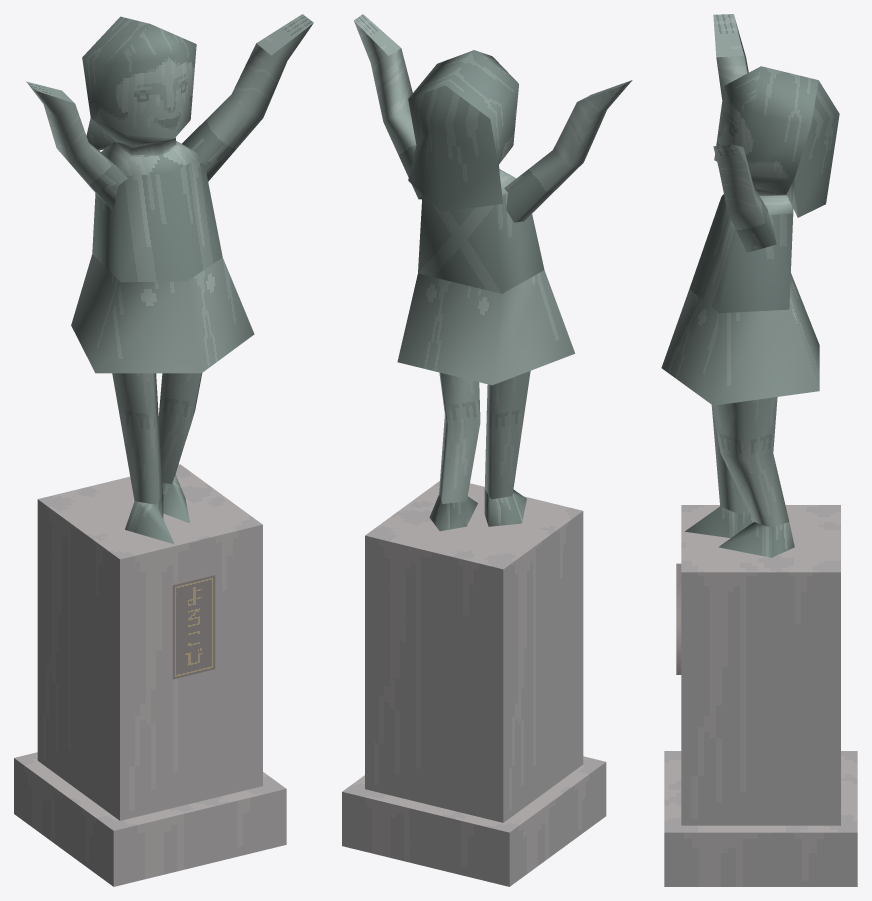
Rendered from 013c_Spirit_of_Joy.glb.
3 views of the same model, side by side, from view 1: azimuth 30°, elevation 25°; view 2: azimuth 150°, elevation 25°; view 3: azimuth 270°, elevation 25° (orthographic). The views are drawn at different scales.
Visible parts, largest first — view 1: part_0; view 2: part_0; view 3: part_0.
Boxes of the visible parts, box(x1,y1,x2,y2) form: part_0: box(14, 14, 313, 886); part_0: box(342, 14, 632, 886); part_0: box(661, 14, 857, 886).
Bounding box in the file's own units: 1.25 × 3.45 × 0.7866.
1 material, 1 textured.
